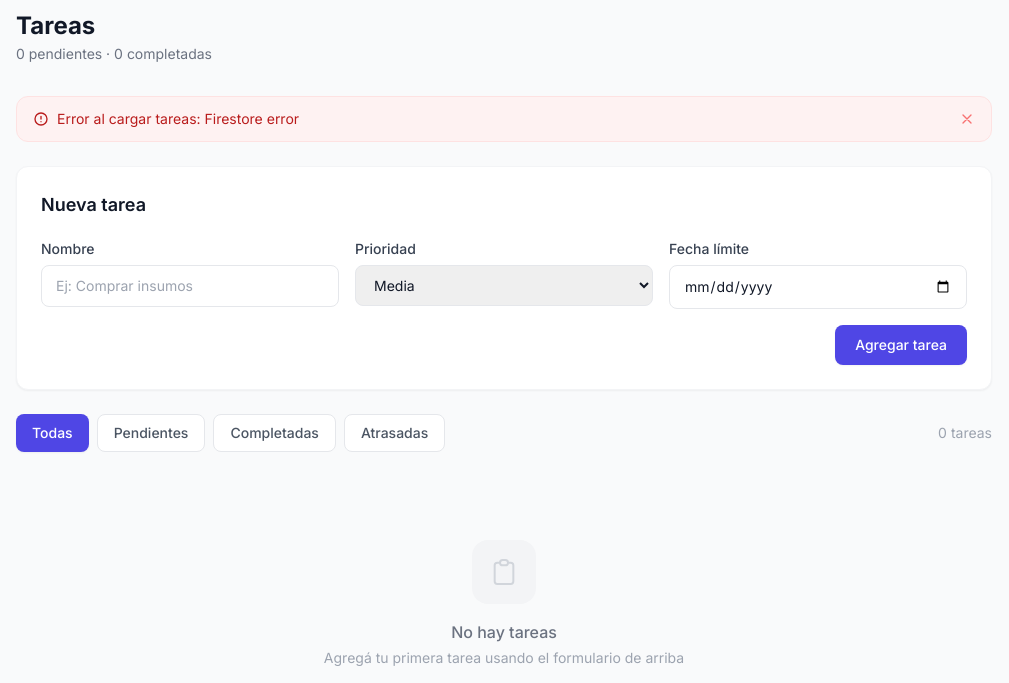
TasksPage › dismisses error when close button is clicked
Check: the text "Error al cargar tareas: Firestore error" is shown, box x1=33 y1=109 x2=299 y2=129
Click the 1st button. click: point(967, 119)
box: x1=959 y1=111 x2=975 y2=127
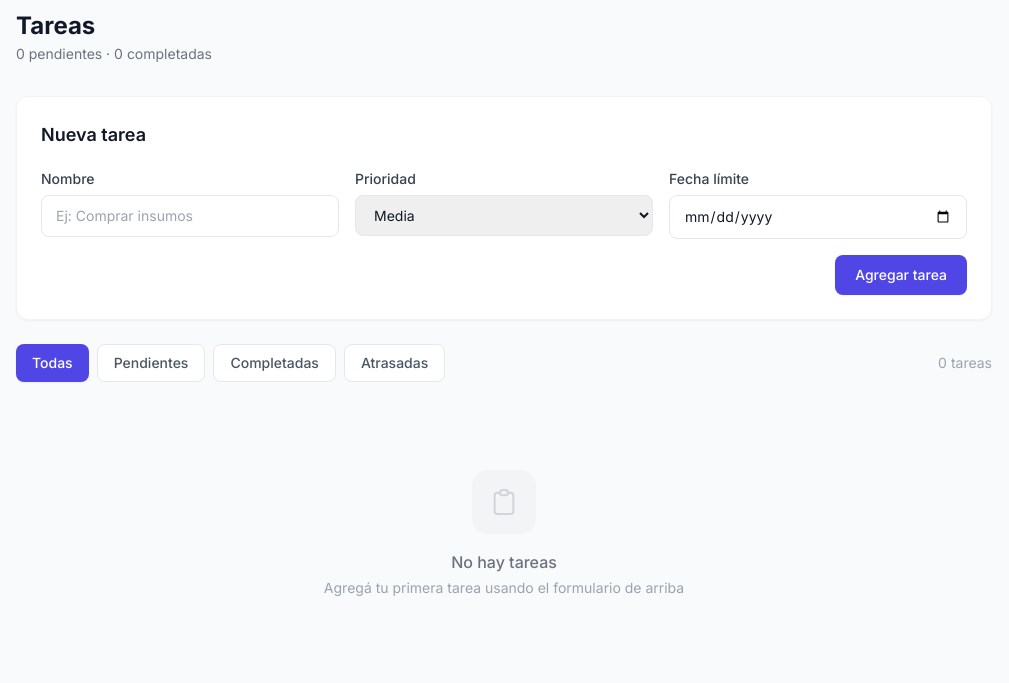
Check: the text "Error al cargar tareas" is gone
